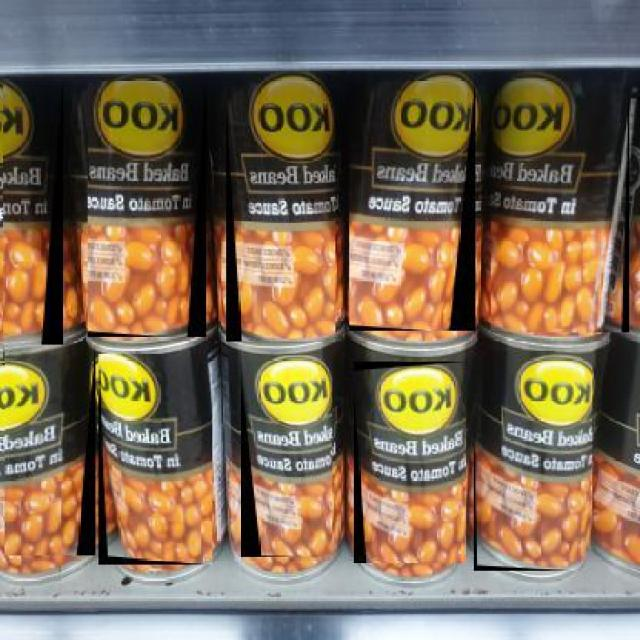Beans: (489, 78, 629, 334), (348, 80, 475, 332), (86, 80, 206, 338), (224, 83, 336, 343), (472, 351, 592, 572), (97, 353, 212, 567), (352, 362, 466, 566), (3, 345, 95, 557), (238, 356, 332, 558), (2, 79, 63, 366)
